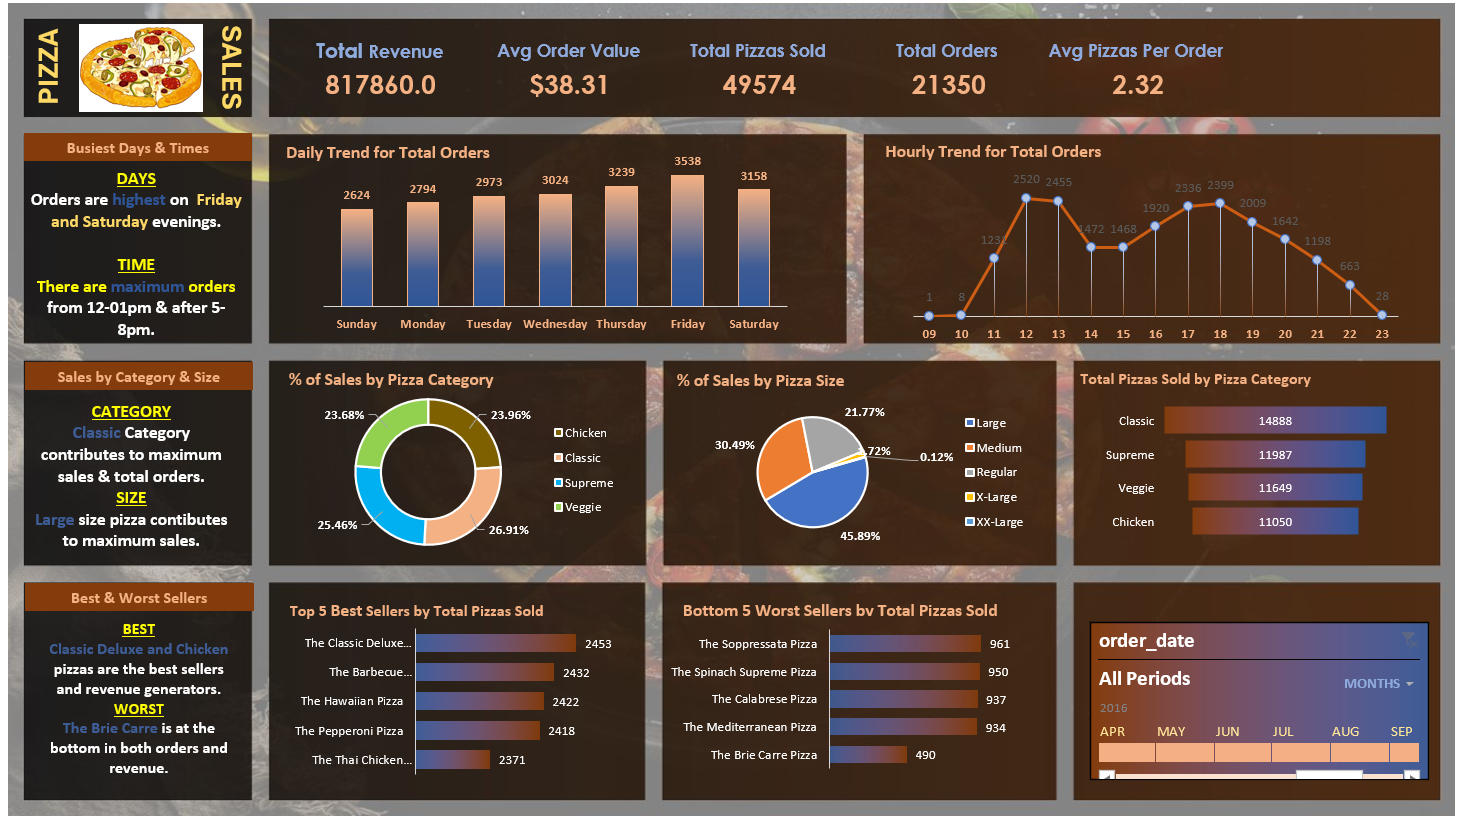

This screenshot's page, from the dashboard's own definition file:
{"tool":"powerbi","page":{"name":"Home","canvas":[1500,820],"ordinal":0},"visuals":[{"type":"shape","title":"Monthly Trend for Total Orders","box":[2.5,77.5,317.5,713.8],"z":0},{"type":"textbox","box":[13.2,217.7,298.5,39.7],"z":1000},{"type":"cardVisual","fields":{"Data":["pizza_sales (1).Total Revenue","pizza_sales (1).Avg Order Value","pizza_sales (1).Total Pizzas Sold","pizza_sales (1).Total Orders","pizza_sales (1).Avg Pizzas Per Order"]},"box":[317.7,86.8,1169.2,150],"z":2000},{"type":"shape","box":[11.9,4.5,1474.6,82.1],"z":3000},{"type":"textbox","box":[600,22.4,353.7,41.8],"z":4000},{"type":"textbox","box":[717.9,55.2,120.9,44.8],"z":5000},{"type":"shape","title":"Monthly Trend for Total Orders","box":[320,222.9,611.4,274.3],"z":6000},{"type":"columnChart","title":"Daily Trend for Total Orders","fields":{"Category":["pizza_sales (1).Order Day"],"Y":["pizza_sales (1).Total Orders"]},"box":[365.7,245.7,535.7,240],"z":7000},{"type":"areaChart","title":"Monthly Trend for Total Orders","fields":{"Category":["pizza_sales (1).Month Order"],"Y":["pizza_sales (1).Total Orders"]},"box":[975.7,258.6,510,227.1],"z":8000},{"type":"shape","title":"Monthly Trend for Total Orders","box":[317.5,497.5,400,280],"z":9000},{"type":"shape","title":"Monthly Trend for Total Orders","box":[1093.8,496.2,382.5,281.2],"z":10000},{"type":"shape","title":"Monthly Trend for Total Orders","box":[726.2,496.2,367.5,281.2],"z":11000},{"type":"donutChart","title":"% of Sales by Pizza Category","fields":{"Category":["pizza_sales (1).pizza_category"],"Y":["pizza_sales (1).Total Revenue"]},"box":[336.2,518.8,381.2,258.8],"z":12000},{"type":"donutChart","title":"% of Sales by Pizza Size","fields":{"Y":["pizza_sales (1).Total Revenue"],"Category":["pizza_sales (1).pizza_size"]},"box":[1111.2,516.2,347.5,245],"z":13000},{"type":"funnel","title":"Total Pizzas Sold by Pizza Category","fields":{"Category":["pizza_sales (1).pizza_category"],"Y":["pizza_sales (1).Total Pizzas Sold"]},"box":[737.5,516.2,345,227.5],"z":14000},{"type":"textbox","box":[12.1,257.6,300,239.4],"z":15000},{"type":"textbox","box":[12.1,497,298.5,39.4],"z":16000},{"type":"textbox","box":[12.8,535.9,300,207.7],"z":17000},{"type":"slicer","fields":{"Values":["pizza_sales (1).pizza_category"]},"box":[931.2,16.2,237.5,76.2],"z":18000},{"type":"slicer","fields":{"Values":["pizza_sales (1).order_date"]},"box":[1187.9,7.6,236.4,75.8],"z":19000},{"type":"pageNavigator","box":[38.8,100,246.2,50],"z":20000},{"type":"pageNavigator","box":[38.8,161.2,246.2,50],"z":21000}]}

Visuals, with their boxes in screenshot pixels (x1, y1, x2, y2), scaled from the page's 1500x820 canvas onto the 1467x820 screenshot:
"Monthly Trend for Total Orders" shape: rect(2, 78, 313, 791)
textbox: rect(13, 218, 305, 257)
cardVisual - pizza_sales (1).Total Revenue x pizza_sales (1).Avg Order Value: rect(311, 87, 1454, 237)
shape: rect(12, 4, 1454, 87)
textbox: rect(587, 22, 933, 64)
textbox: rect(702, 55, 820, 100)
"Monthly Trend for Total Orders" shape: rect(313, 223, 911, 497)
"Daily Trend for Total Orders" columnChart: rect(358, 246, 882, 486)
"Monthly Trend for Total Orders" areaChart: rect(954, 259, 1453, 486)
"Monthly Trend for Total Orders" shape: rect(311, 498, 702, 778)
"Monthly Trend for Total Orders" shape: rect(1070, 496, 1444, 777)
"Monthly Trend for Total Orders" shape: rect(710, 496, 1070, 777)
"% of Sales by Pizza Category" donutChart: rect(329, 519, 702, 778)
"% of Sales by Pizza Size" donutChart: rect(1087, 516, 1427, 761)
"Total Pizzas Sold by Pizza Category" funnel: rect(721, 516, 1059, 744)
textbox: rect(12, 258, 305, 497)
textbox: rect(12, 497, 304, 536)
textbox: rect(13, 536, 306, 744)
slicer - pizza_sales (1).pizza_category: rect(911, 16, 1143, 92)
slicer - pizza_sales (1).order_date: rect(1162, 8, 1393, 83)
pageNavigator: rect(38, 100, 279, 150)
pageNavigator: rect(38, 161, 279, 211)
